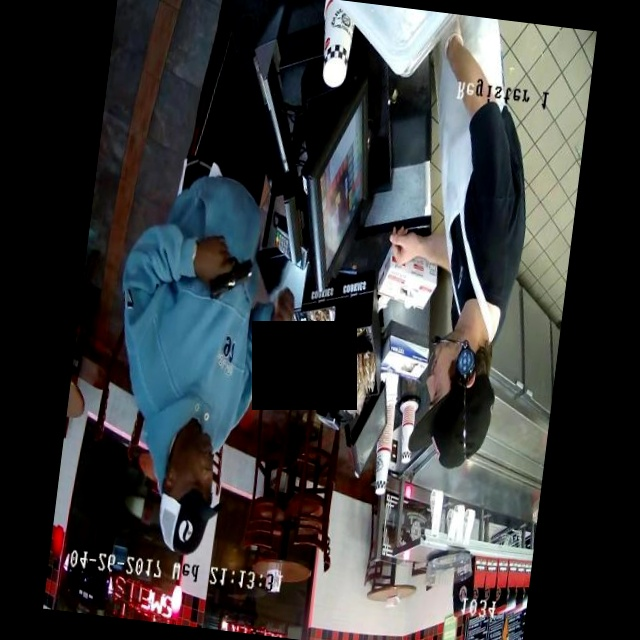gun: (188, 238, 265, 318)
